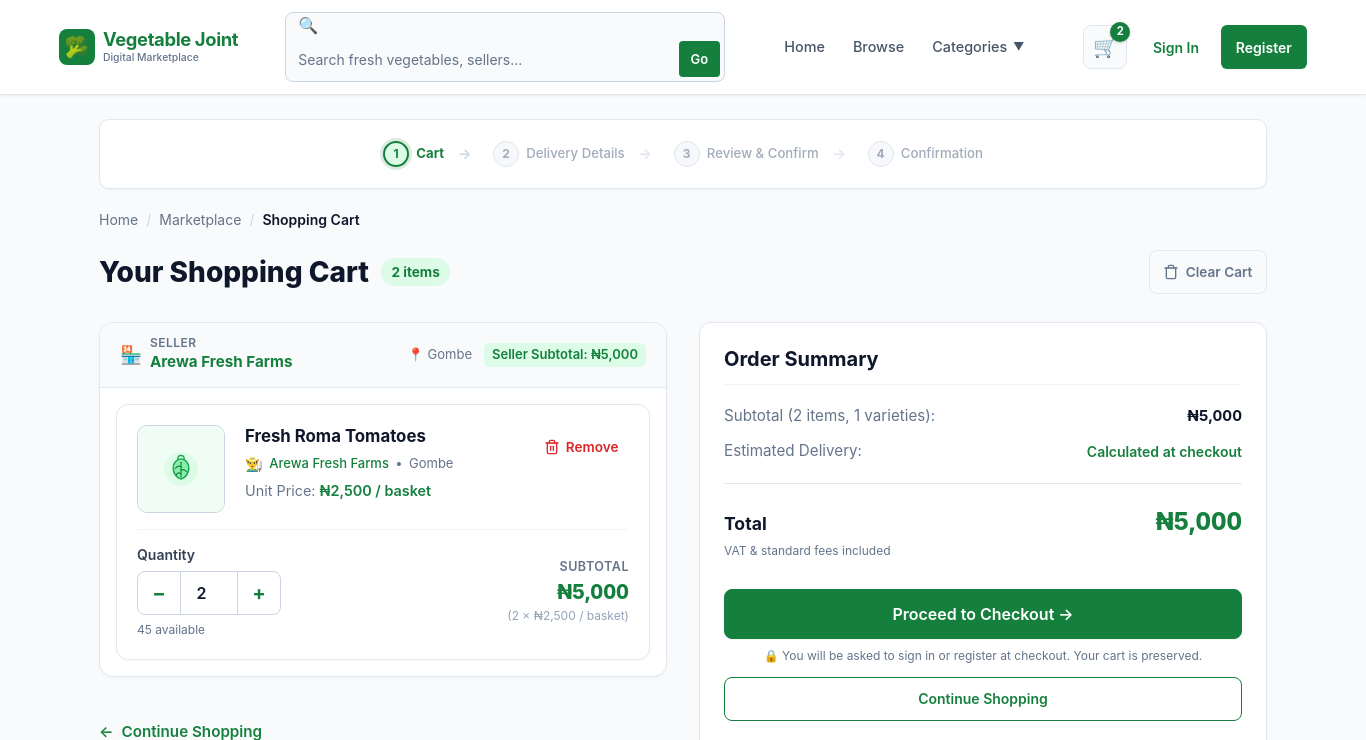
Test: FE-114 E2E: Buyer Purchase Journey (TC-08 to TC-16) › TC-12: Guest proceeds to checkout (CART-09) › prompts unauthenticated guest to log in/register and preserves cart afterwards
expect the link "Fresh Roma Tomatoes" is shown: met, box x1=245 y1=426 x2=426 y2=446
expect the text with test id "cart-guest-checkout-hint" is shown: met, box x1=764 y1=648 x2=1202 y2=663
# Guest clicks Proceed to Checkout
Click the link with test id "cart-checkout-button": [983, 614] box x1=724 y1=589 x2=1242 y2=639
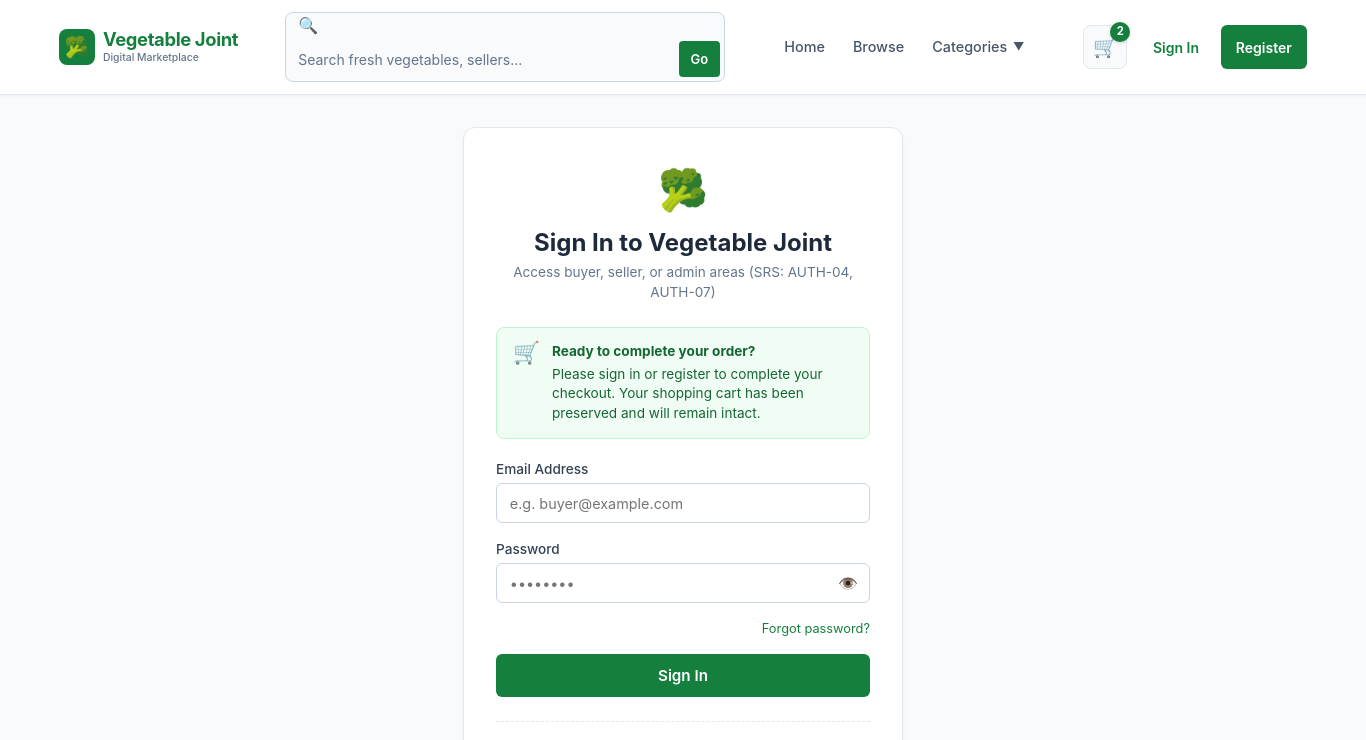
expect the heading "Sign In to Vegetable Joint" is shown: met, box x1=534 y1=228 x2=832 y2=257
expect the message with test id "checkout-guest-notice" is shown: met, box x1=496 y1=327 x2=870 y2=439
In the field labelled "Email Address": [683, 503] box x1=496 y1=483 x2=870 y2=523, type "buyer@example.com"
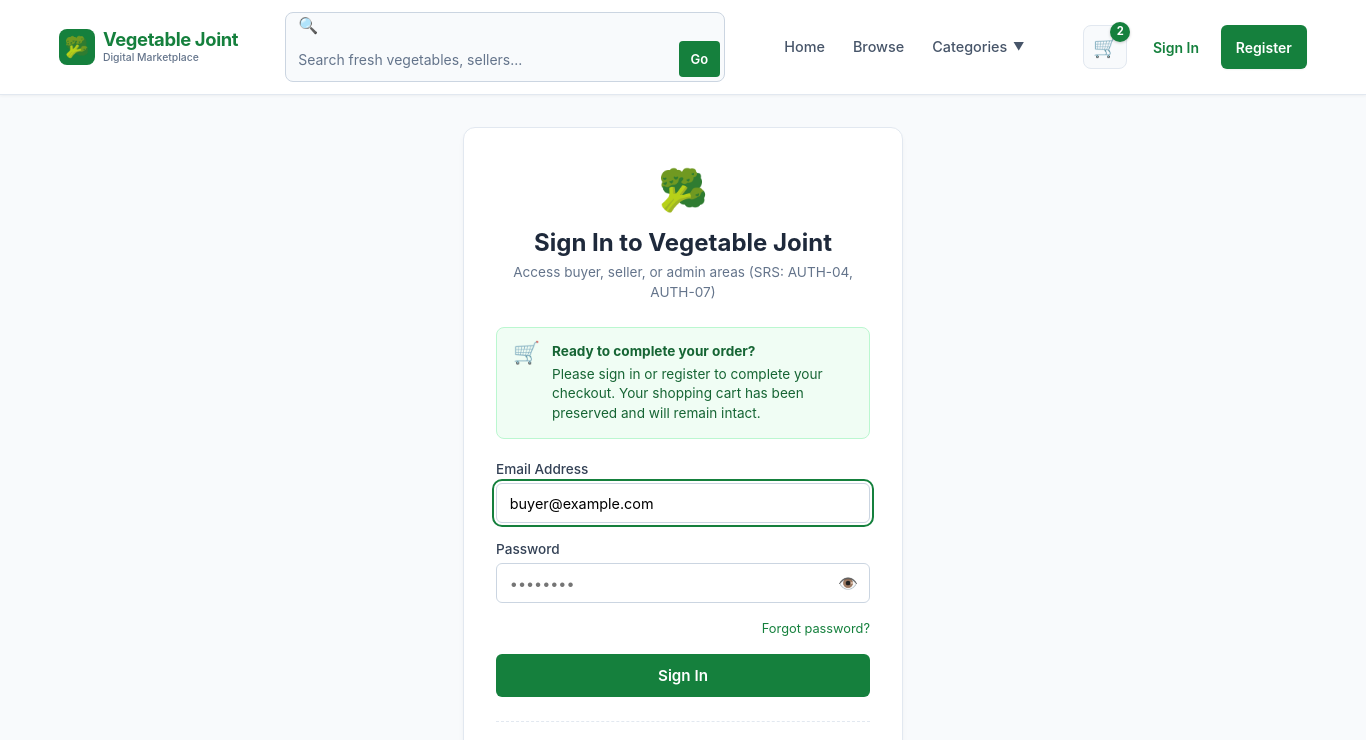
In the password field labelled "Password": [683, 583] box x1=496 y1=563 x2=870 y2=603, type "password123"
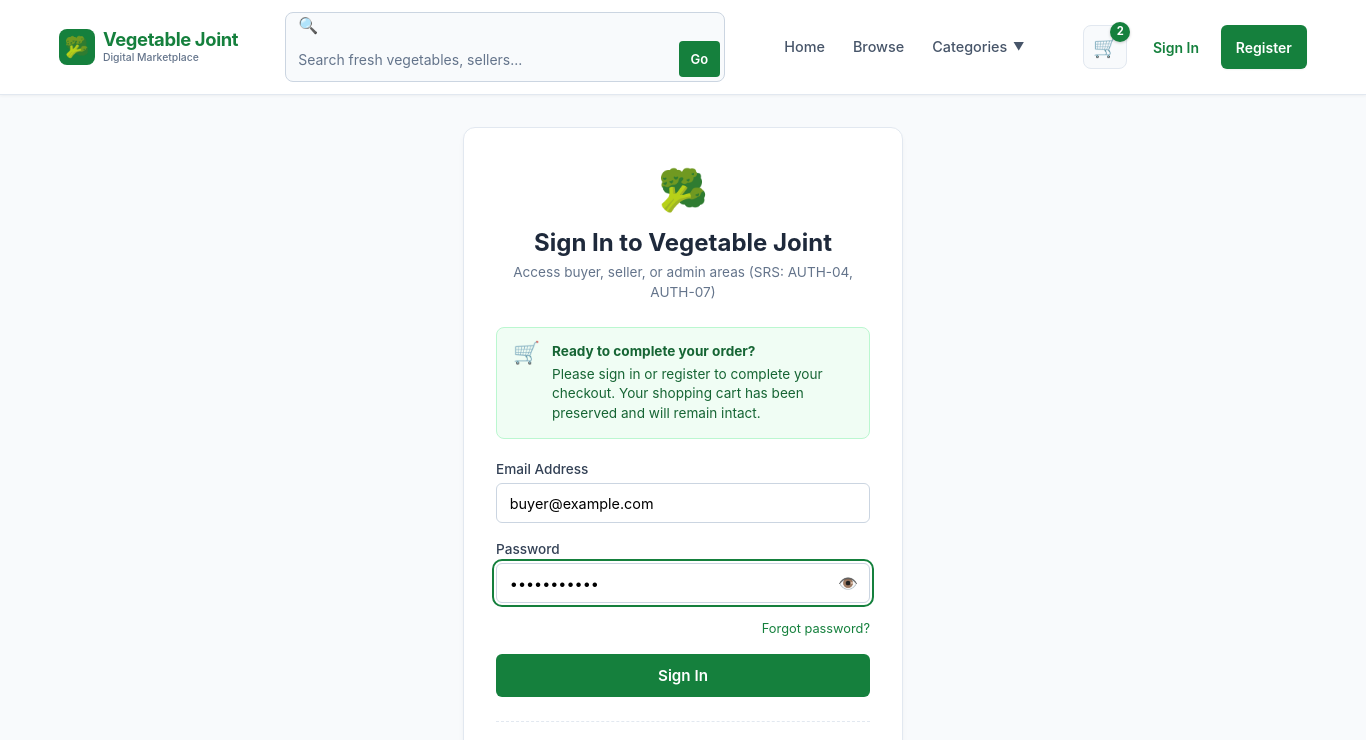
Click the button "Sign In": [683, 676] box x1=496 y1=654 x2=870 y2=697
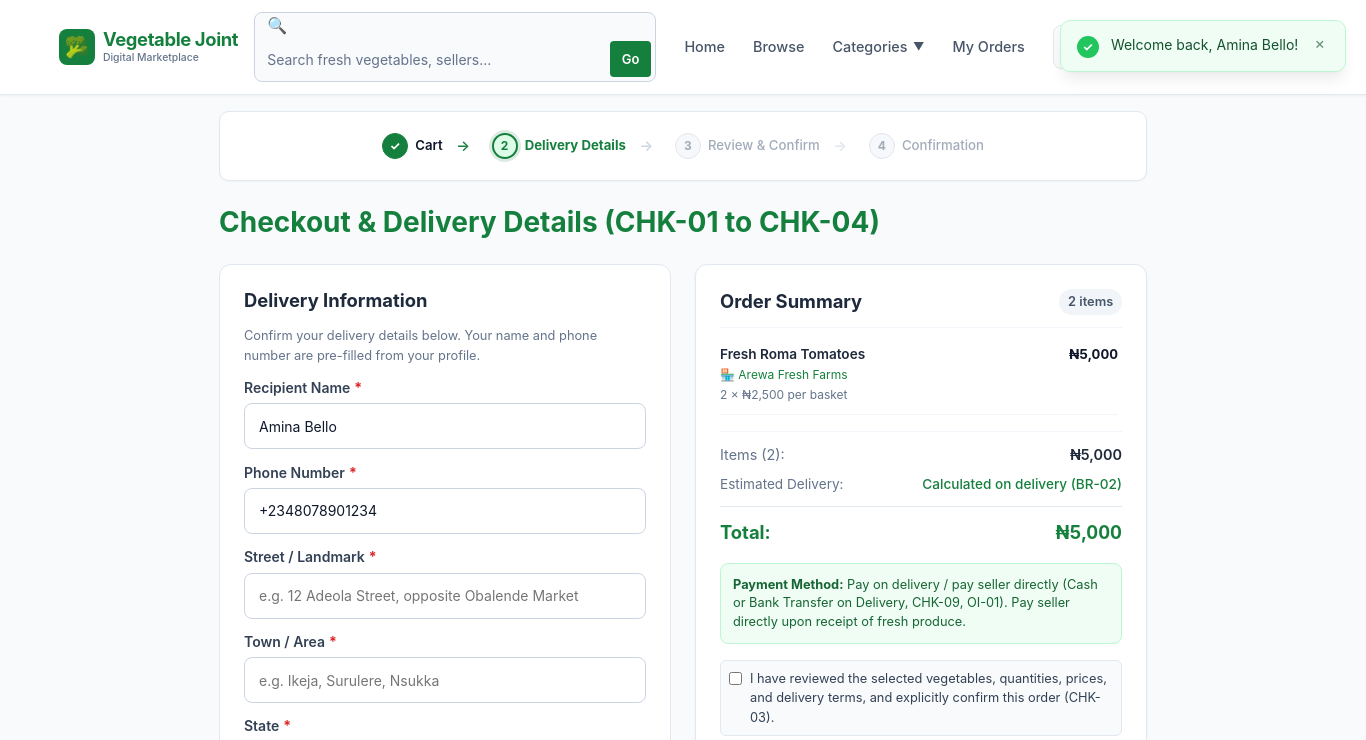
expect the text "Fresh Roma Tomatoes" is shown: met, box x1=720 y1=346 x2=865 y2=362
expect the text with test id "checkout-total" reads "₦5,000": met, box x1=1056 y1=521 x2=1122 y2=543
